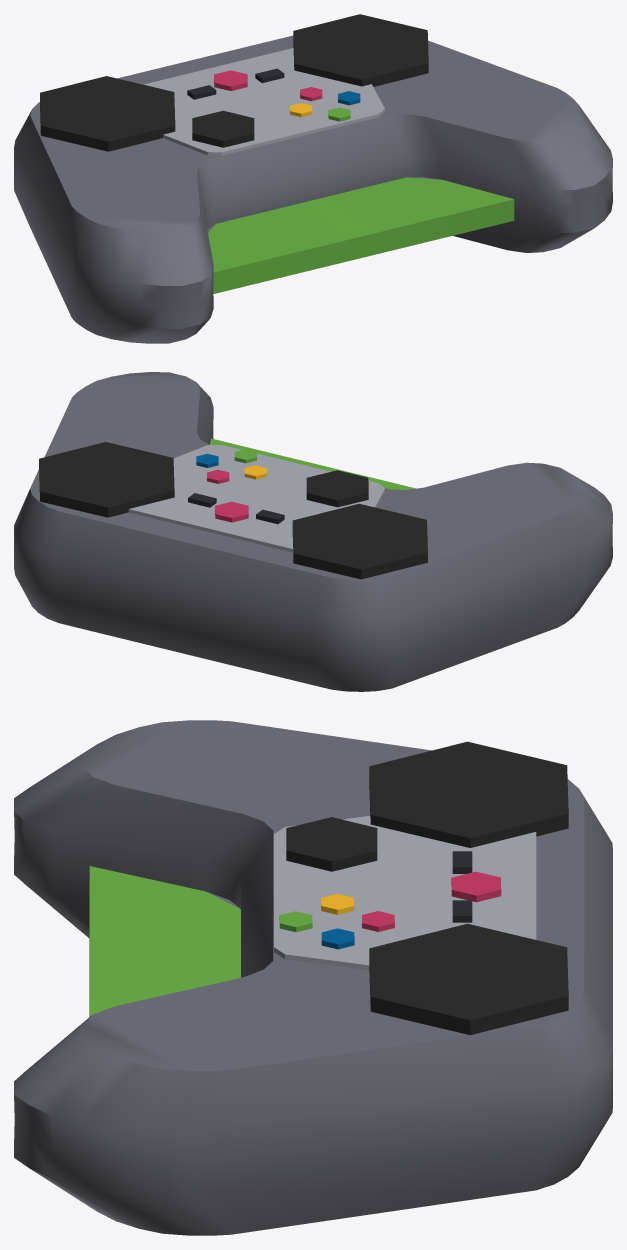
File: ConsoleSofaB.glb
3 views of the same model, one above another, from view 1: azimuth 30°, elevation 25°; view 2: azimuth 150°, elevation 25°; view 3: azimuth 270°, elevation 25° (orthographic). The views are drawn at different scales.
Parts seen in each view (by area): view 1: consoleSofaB; view 2: consoleSofaB; view 3: consoleSofaB.
Part boxes in pixels (left/top/right/bottom): consoleSofaB: left=14, top=14, right=612, bottom=343; consoleSofaB: left=14, top=372, right=612, bottom=691; consoleSofaB: left=14, top=720, right=612, bottom=1235.
Size of what is drawn, in the model's own units: 3.84 by 0.8706 by 2.63.
Materials: 1 (1 with a texture image).
